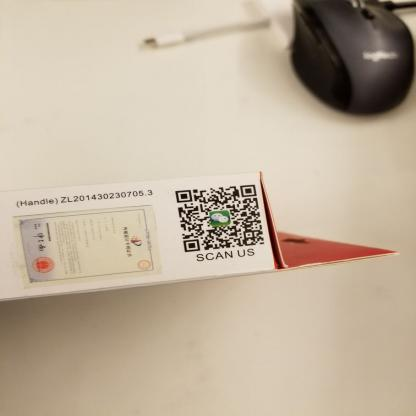qr: (172, 184, 268, 254)
